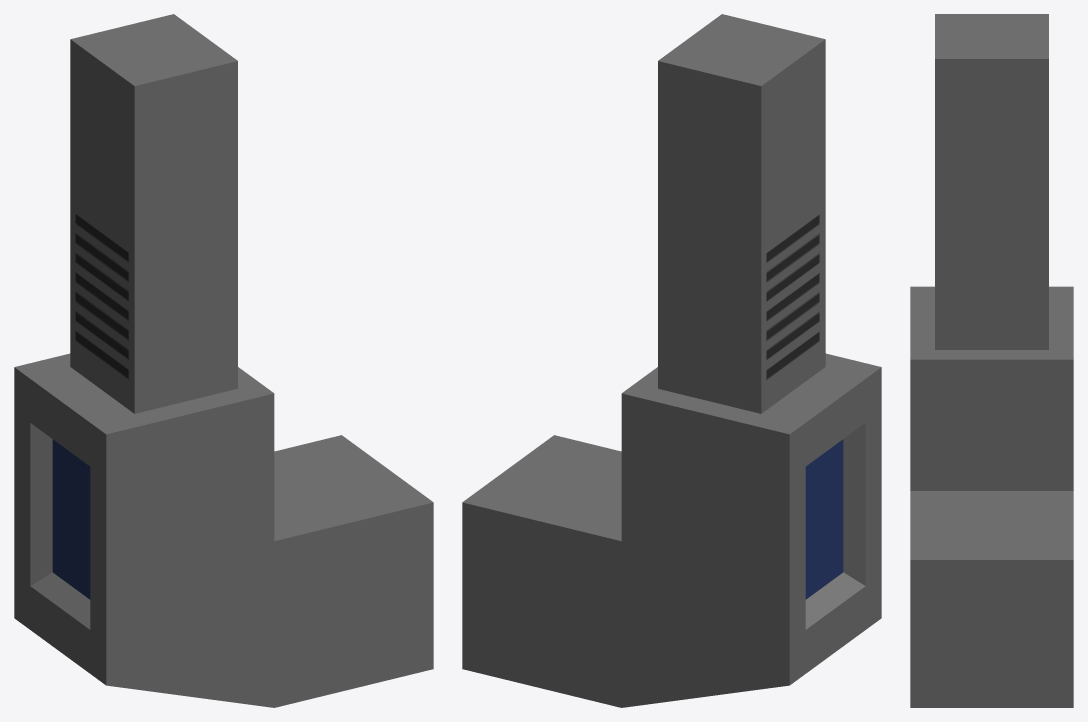
3 renders of one model, left to right at view 1: azimuth 30°, elevation 25°; view 2: azimuth 150°, elevation 25°; view 3: azimuth 270°, elevation 25°, orthographic. The views are drawn at different scales.
Visible parts, largest first — view 1: SM_B_Part13; view 2: SM_B_Part13; view 3: SM_B_Part13.
Boxes of the visible parts, x1,y1,x2,y2 form: SM_B_Part13: (14,14,433,707); SM_B_Part13: (462,14,881,707); SM_B_Part13: (910,14,1073,707).
Bounding box in the file's own units: 209 × 102 × 391.
Materials: 1 (1 with a texture image).
